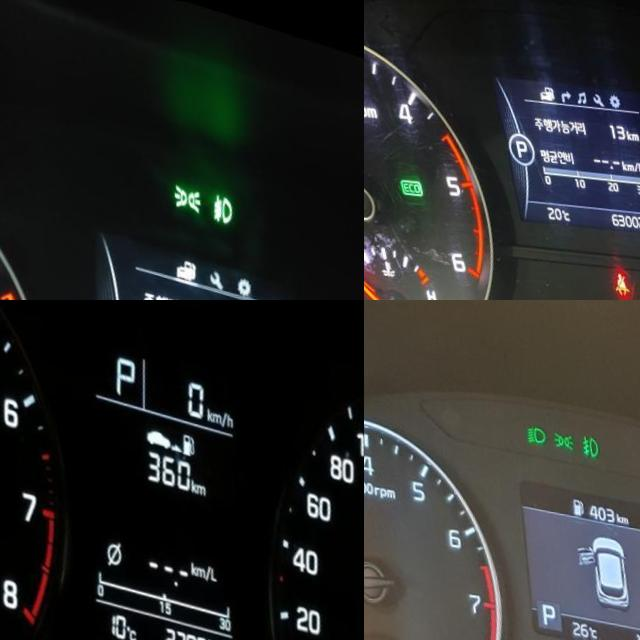FrontFogLight: (196, 182, 229, 219), (568, 426, 590, 450)
Low beam: (512, 417, 537, 439)
SideLamp: (159, 174, 196, 207), (541, 423, 564, 443)
